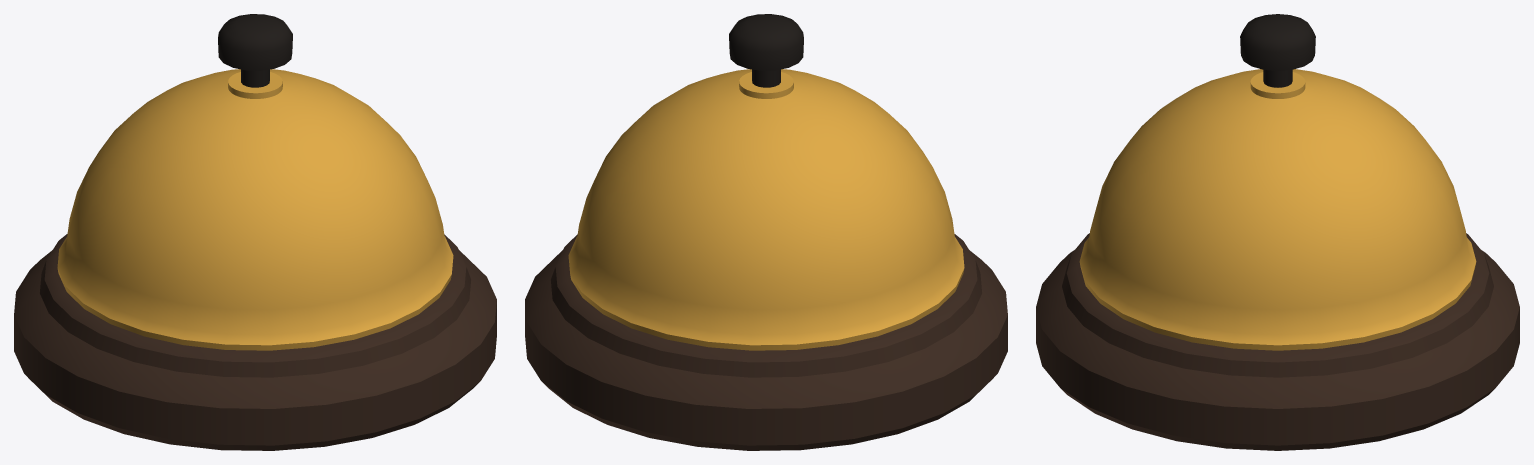
File: bell.glb
The picture shows the model from 3 angles, left to right: view 1: azimuth 30°, elevation 25°; view 2: azimuth 150°, elevation 25°; view 3: azimuth 270°, elevation 25°; orthographic projection.
Parts seen in each view (by area): view 1: Base, Button; view 2: Base, Button; view 3: Base, Button.
Part boxes in pixels (bbox=[...]): Base: bbox=[14, 69, 496, 450]; Button: bbox=[218, 14, 292, 87]; Base: bbox=[525, 69, 1007, 450]; Button: bbox=[729, 14, 803, 87]; Base: bbox=[1036, 69, 1519, 450]; Button: bbox=[1240, 14, 1315, 87].
Size of the model in its own units: 0.06 by 0.0452 by 0.06.
